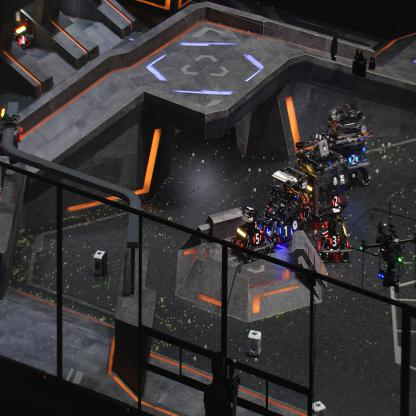car: (291, 133, 348, 229), (324, 101, 372, 189), (264, 165, 310, 237), (257, 182, 303, 246), (228, 205, 274, 264), (314, 204, 352, 264), (0, 7, 33, 55)
